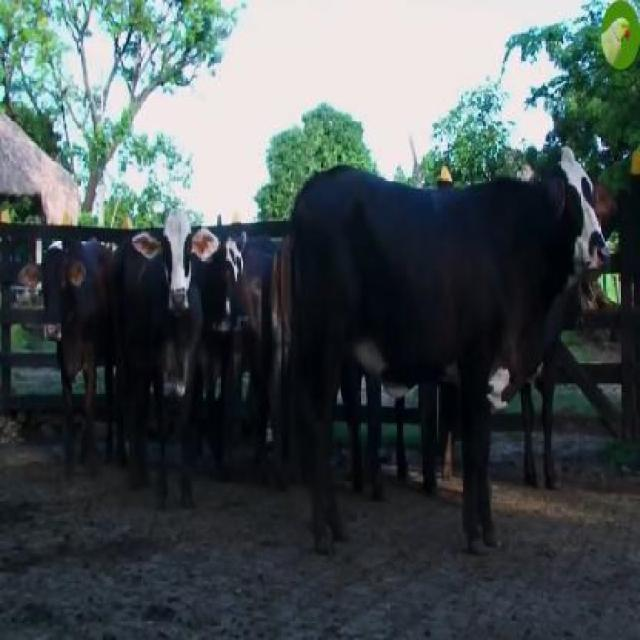Cow: (294, 145, 603, 560)
